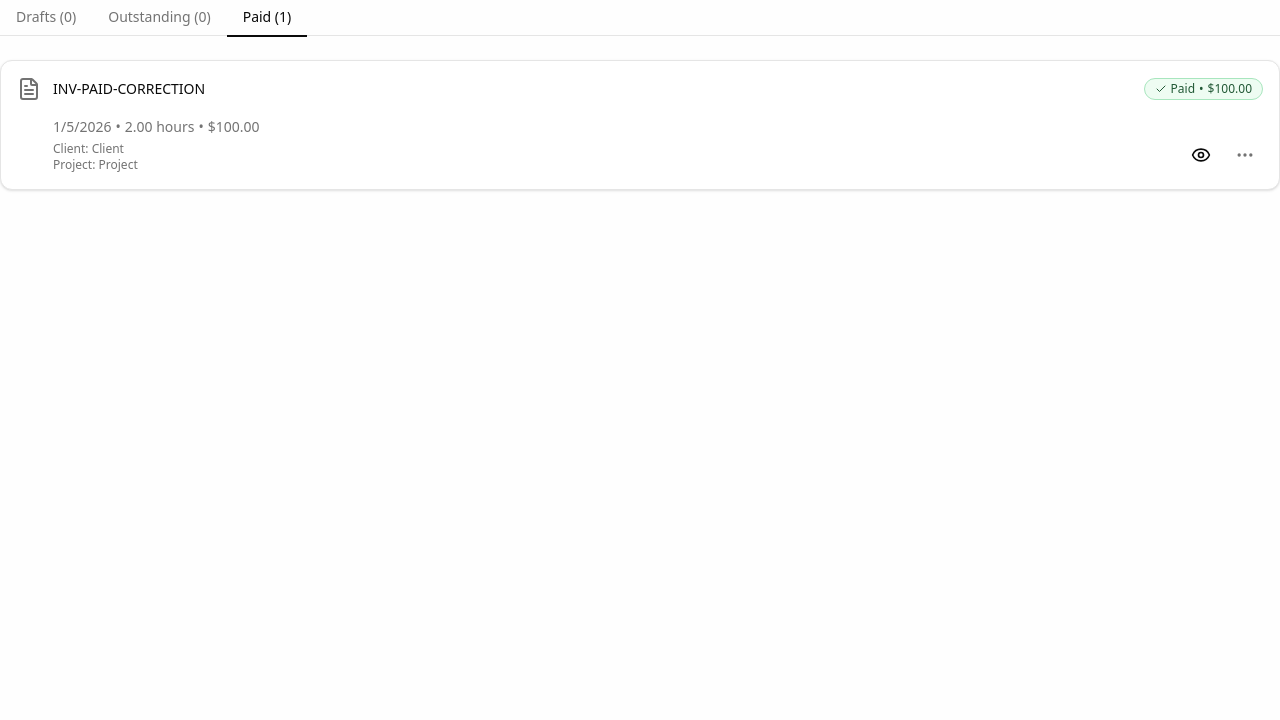
Test: InvoicesList › confirms a paid invoice payment correction before marking it unpaid
This screenshot has width=1280, height=720.
Click the button named "More actions": coordinates (1245, 155) [1227,137,1263,173]
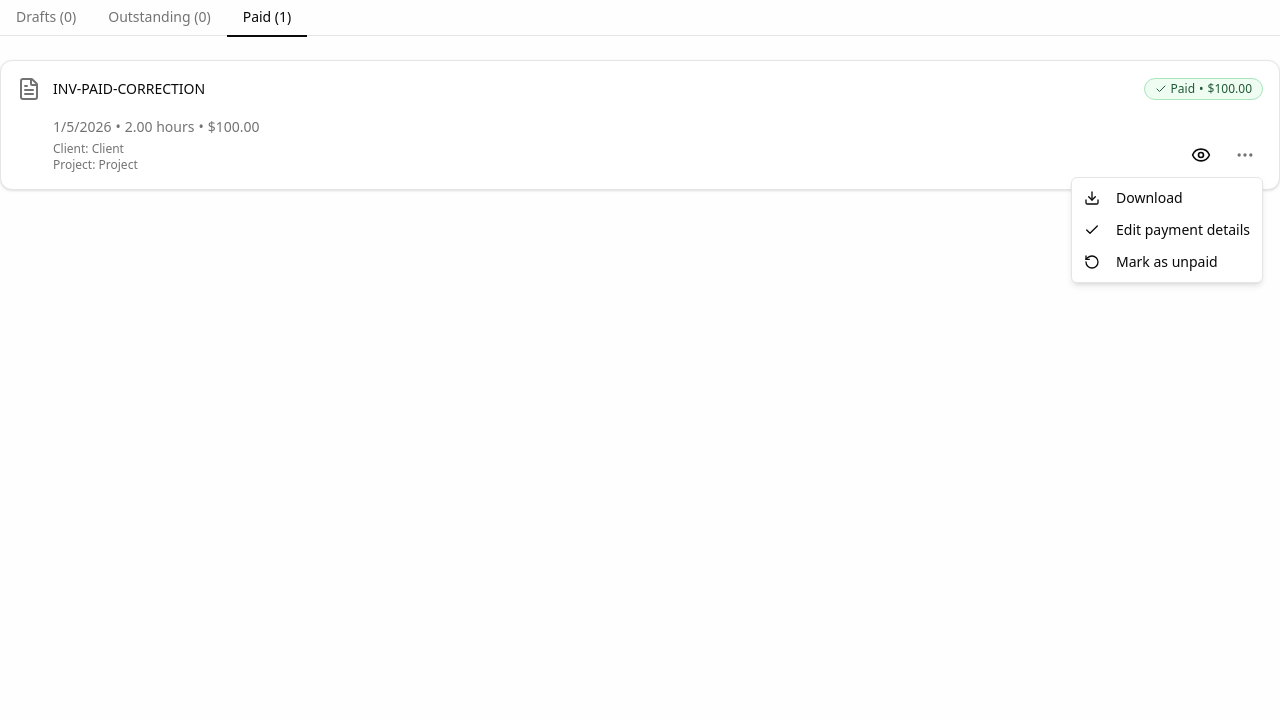
Click the menu item "Mark as unpaid": coordinates (1151, 262) [1084,252,1218,271]
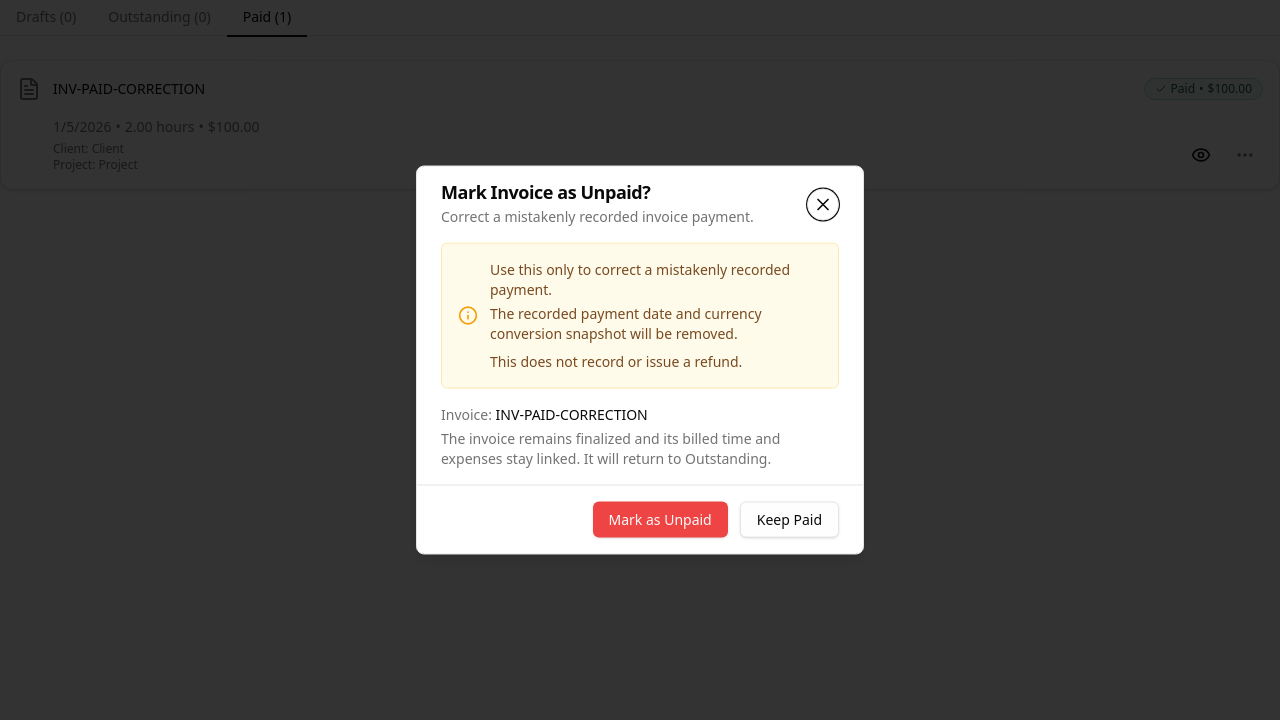
Expected: the dialog "Mark Invoice as Unpaid?" is shown, [416,166,864,554]
Expected: the text "This does not record or issue a refund." is shown, [490,352,742,370]
Click the button "Mark as Unpaid": coordinates (660, 520) [592,502,728,538]
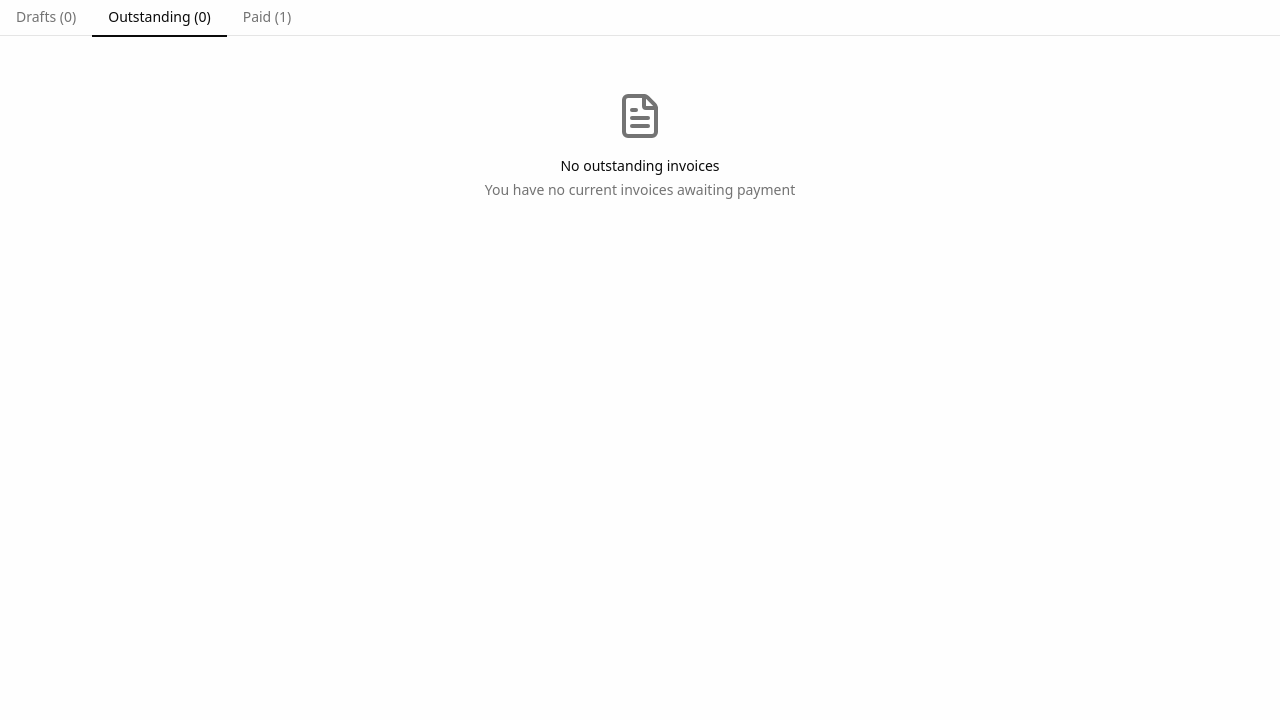
Expected: the heading "Mark Invoice as Unpaid?" is gone
